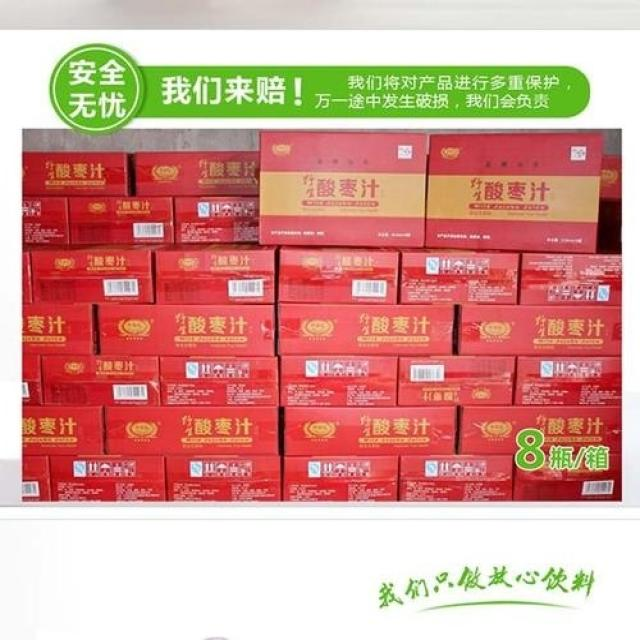box: (426, 133, 605, 252), (259, 133, 428, 248), (276, 301, 460, 358), (96, 301, 278, 357), (29, 241, 170, 305), (456, 302, 622, 356), (106, 405, 280, 456), (282, 407, 460, 456), (457, 404, 621, 456), (155, 242, 279, 302), (394, 248, 521, 304), (276, 244, 398, 302), (127, 150, 260, 197), (160, 356, 280, 407), (41, 356, 161, 407), (280, 356, 398, 407), (517, 249, 621, 306), (397, 357, 517, 404), (49, 455, 166, 502), (513, 357, 621, 407), (168, 456, 282, 503), (397, 458, 516, 503), (282, 456, 398, 502), (511, 456, 622, 503), (68, 196, 173, 242), (22, 153, 127, 198), (173, 196, 260, 244), (23, 301, 97, 357), (23, 407, 106, 455), (22, 196, 69, 248), (23, 455, 51, 499), (23, 355, 44, 407)
